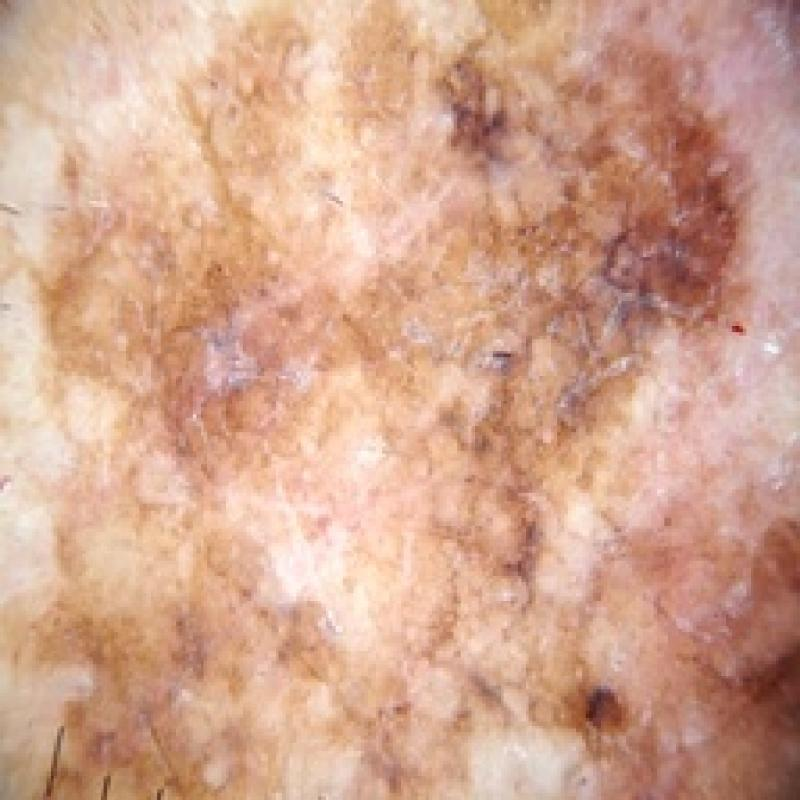malignant: (400, 32, 769, 494), (36, 60, 385, 518), (457, 549, 776, 787), (46, 556, 365, 788)
